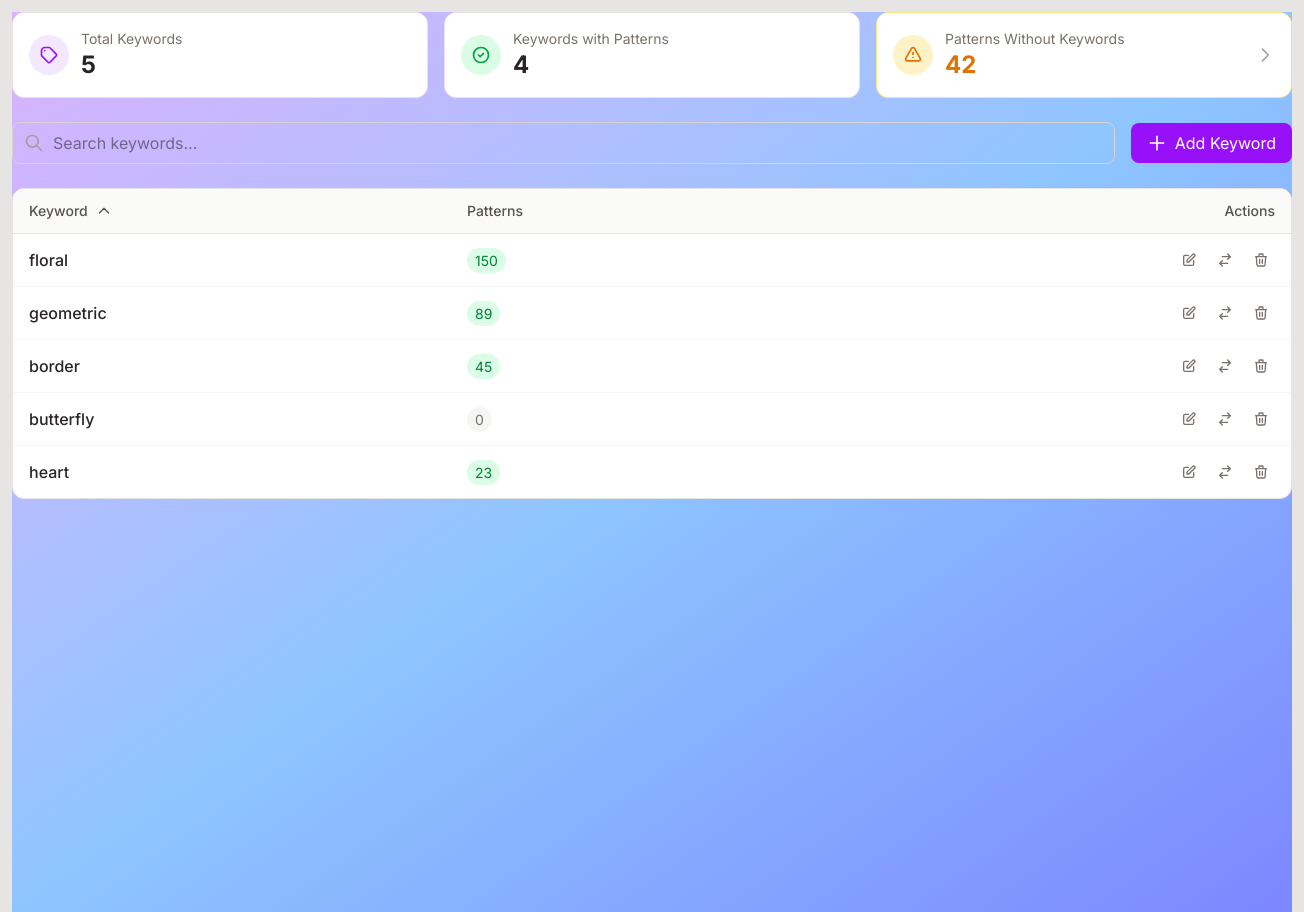
Scenario: KeywordManager › keyword display › shows empty message when no keywords match search
Expected: the text "floral" is shown, [29,250,68,270]
Type "zzzznonexistent" into the field with placeholder "Search keywords...". click: (563, 143)
box: [12,122,1115,164]
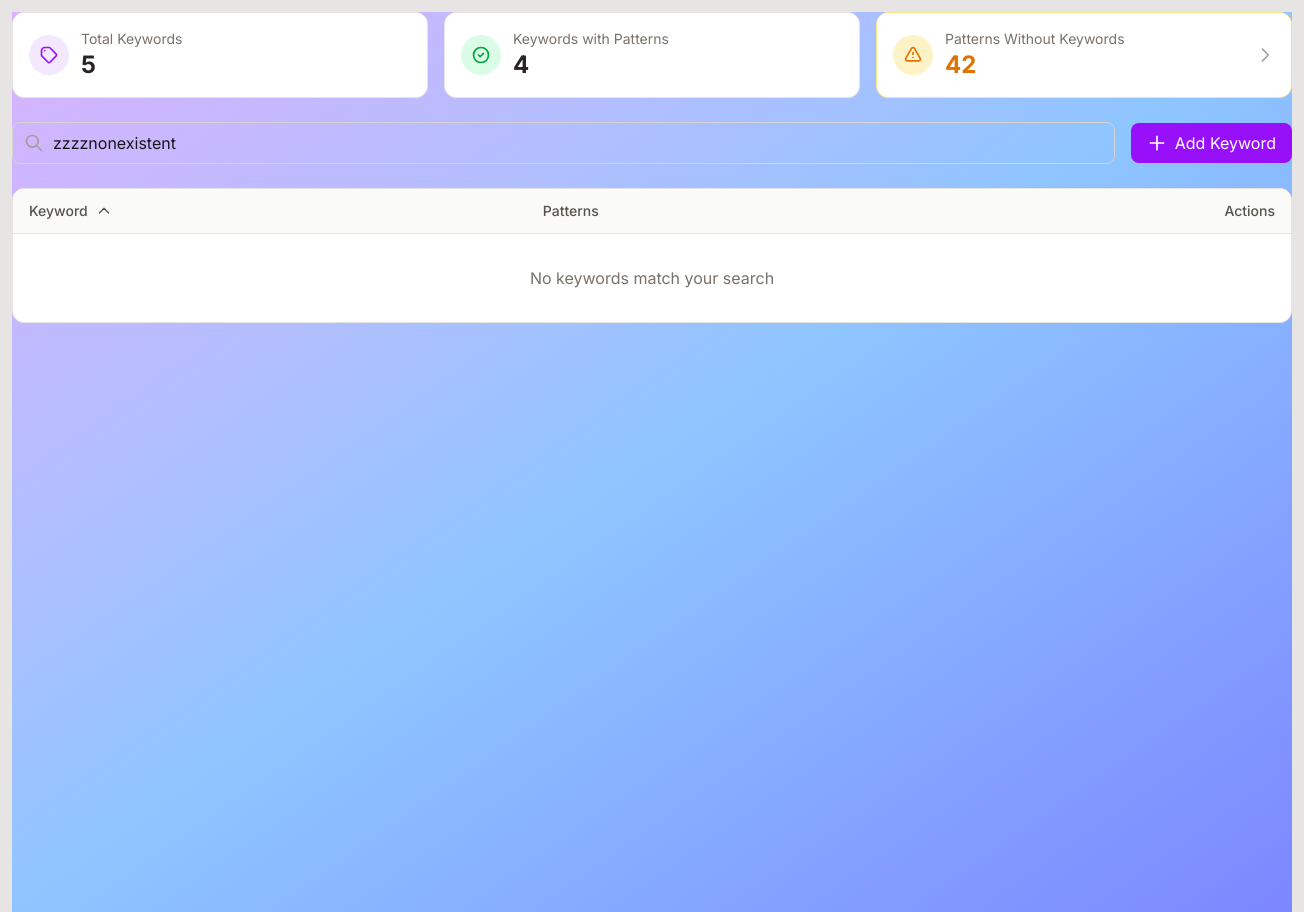
Expected: the text "No keywords match your search" is shown, [530,268,774,288]
